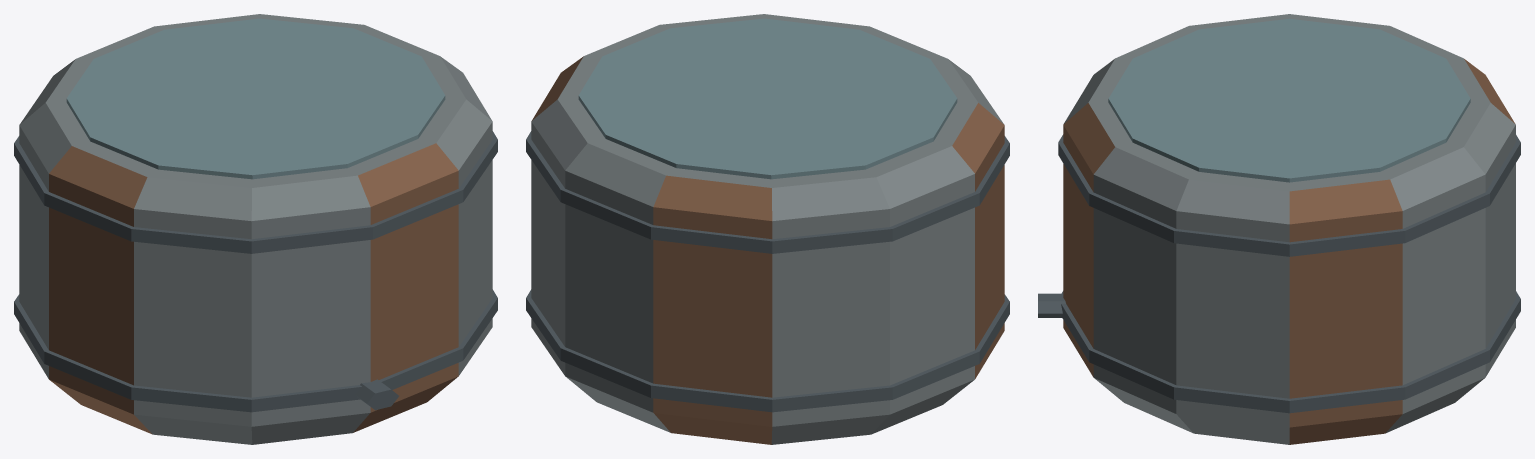
File: water_barrel.glb
3 views of the same model, side by side, from view 1: azimuth 30°, elevation 25°; view 2: azimuth 150°, elevation 25°; view 3: azimuth 270°, elevation 25° (orthographic).
Visible parts, largest first — view 1: water_barrel; view 2: water_barrel; view 3: water_barrel.
Part boxes in pixels (x1,y1,x2,y2): water_barrel: [14, 14, 497, 444]; water_barrel: [526, 14, 1009, 444]; water_barrel: [1038, 14, 1520, 444].
Size of the model in its own units: 1.92 by 1.15 by 1.92.
